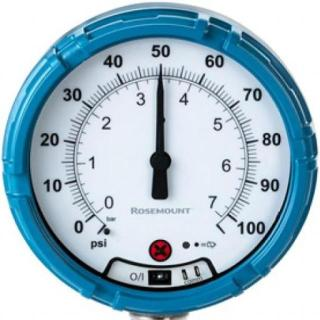gauge: (20, 21, 306, 306), (82, 192, 122, 258), (202, 202, 236, 250), (148, 149, 172, 173), (153, 61, 167, 82)
